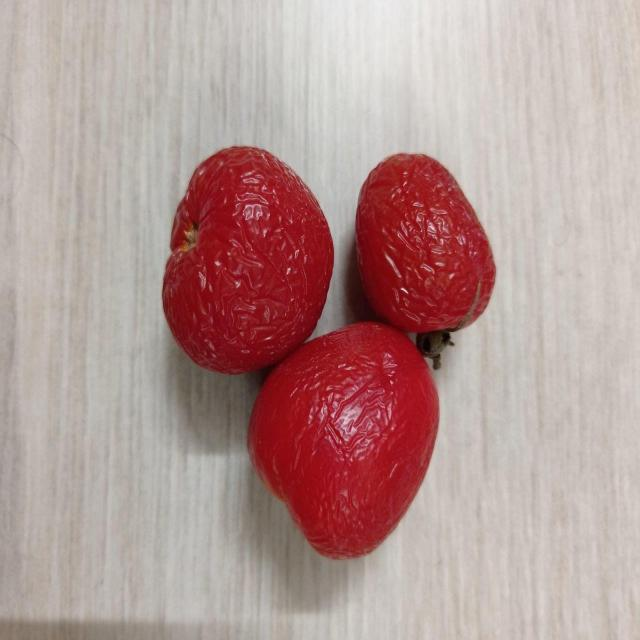overripe: (247, 324, 440, 564), (162, 143, 333, 370), (355, 146, 497, 334)
